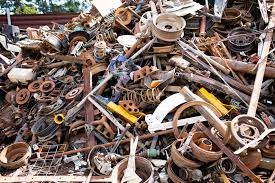metal: (225, 111, 275, 154), (182, 126, 229, 166), (149, 10, 194, 49), (83, 142, 116, 181), (166, 136, 202, 171), (1, 137, 34, 173), (221, 24, 259, 55), (36, 28, 69, 54), (80, 58, 111, 79), (10, 87, 33, 107), (63, 84, 88, 102), (22, 78, 49, 93), (39, 80, 55, 94)
